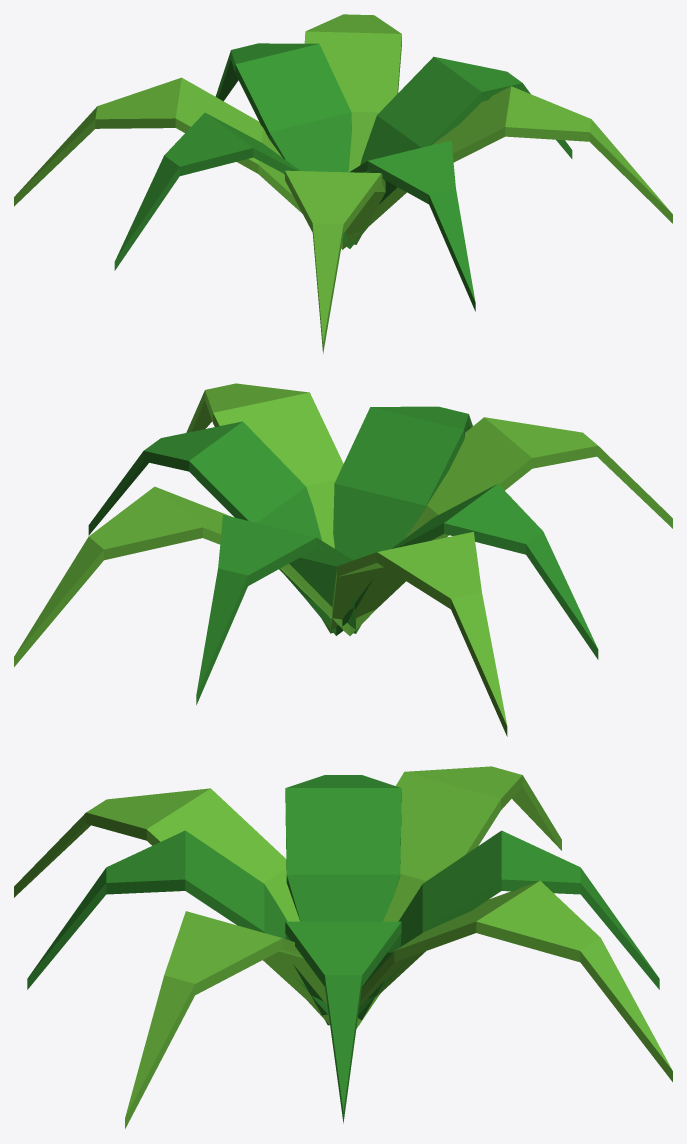
File: helecho.obj
3 views of the same model, one above another, from view 1: azimuth 30°, elevation 25°; view 2: azimuth 150°, elevation 25°; view 3: azimuth 270°, elevation 25° (orthographic). The views are drawn at different scales.
Visible parts, largest first — view 1: helecho; view 2: helecho; view 3: helecho.
Part boxes in pixels (x1,y1,x2,y2): helecho: [14, 14, 672, 353]; helecho: [14, 383, 672, 736]; helecho: [14, 766, 672, 1128].
Size of the model in its own units: 1.25 by 0.3565 by 1.25.
